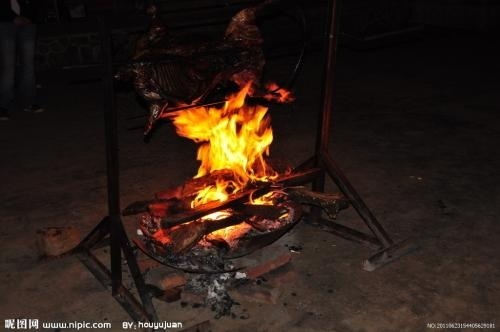fire: (167, 76, 283, 224)
